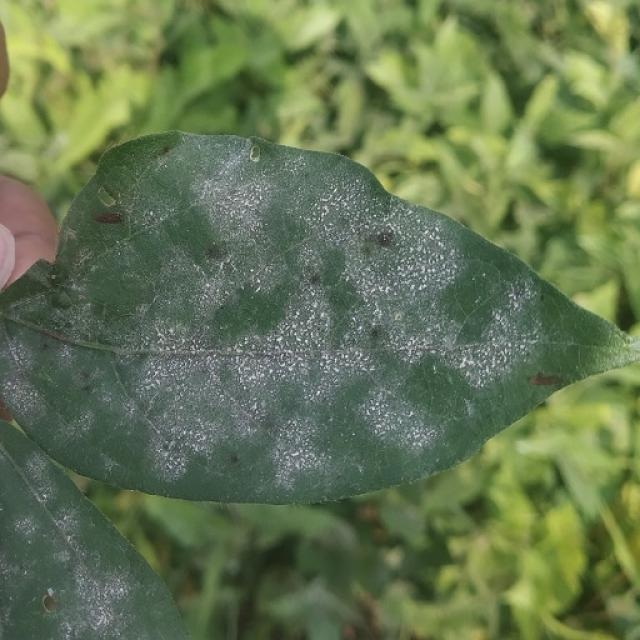Blackgram: (0, 131, 639, 502)
Powdery_Mildew: (98, 177, 524, 475), (210, 183, 423, 350), (183, 319, 367, 446), (164, 160, 315, 303), (136, 350, 275, 465), (270, 164, 389, 262), (277, 316, 489, 371), (431, 290, 535, 386), (364, 221, 461, 305), (49, 549, 138, 632), (222, 337, 316, 405), (210, 170, 291, 245), (348, 367, 428, 441), (264, 287, 341, 350), (5, 342, 59, 431), (274, 420, 325, 486), (270, 422, 334, 474), (142, 313, 218, 356), (152, 417, 208, 471), (11, 507, 52, 548), (311, 180, 351, 211), (160, 445, 190, 474), (91, 608, 111, 629), (54, 546, 73, 565), (65, 533, 76, 548), (459, 357, 472, 369), (320, 194, 332, 203), (417, 282, 428, 291), (290, 449, 301, 457), (275, 335, 284, 344), (254, 284, 262, 294), (255, 276, 262, 285), (249, 267, 255, 274), (481, 272, 487, 279)
